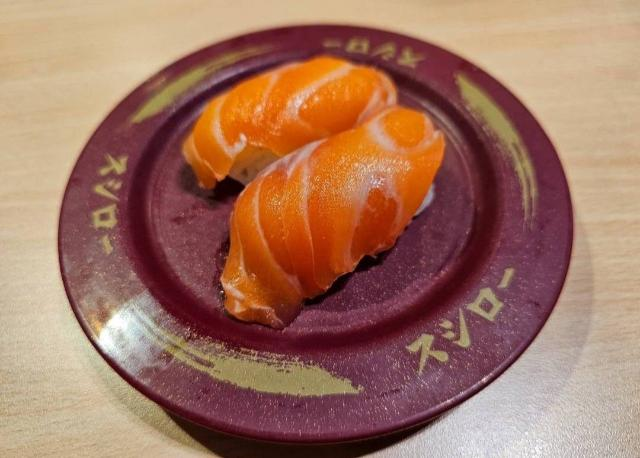janred: (88, 49, 518, 402)
